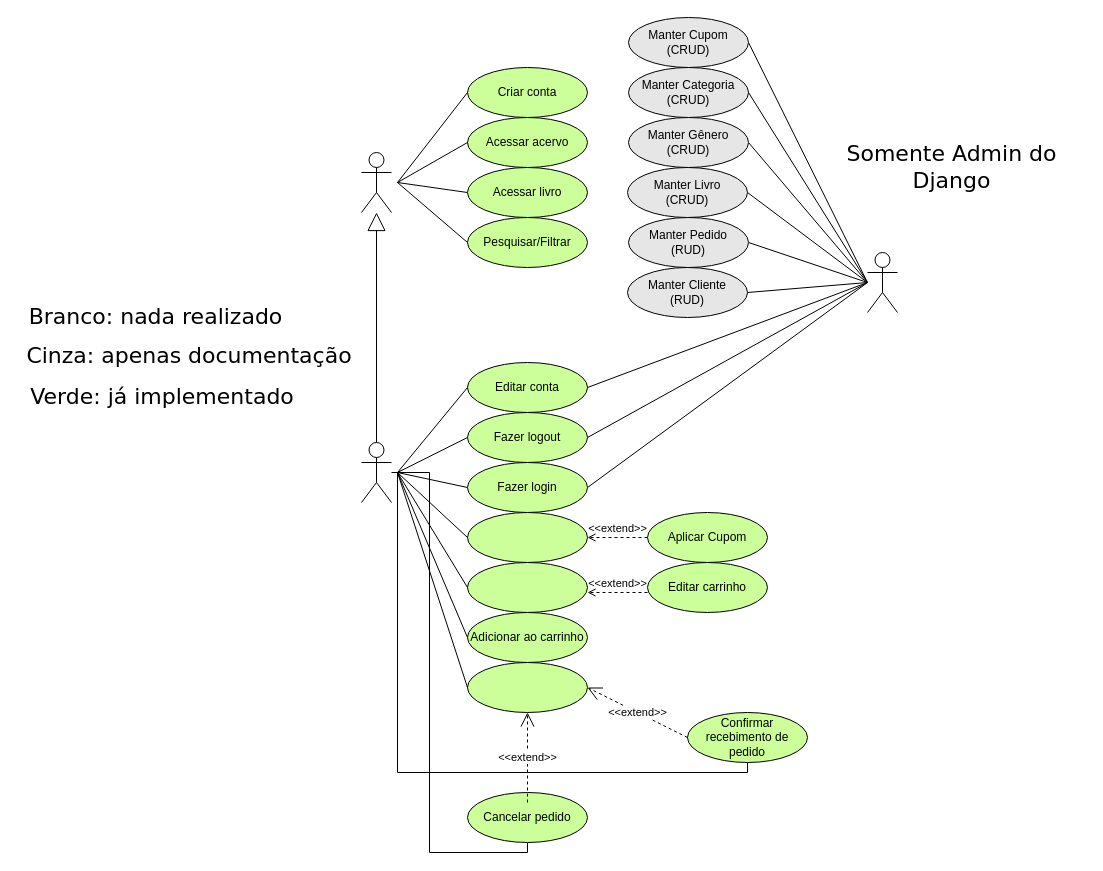
Some shapes in this 1103 by 871 pixel diagram are drawn without their labels. The centre of each missing label's shape, as x and y in pixels:
Acessar carrinho: [527,587]
Cliente: [376,472]
Funcionário eLibros: [882,282]
Realizar pedido: [527,537]
Ver pedidos realizados: [527,687]
Visitante: [376,182]
